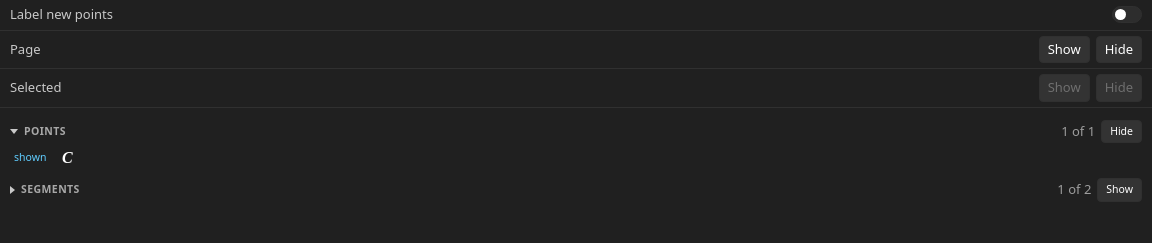
Scenario: the labels panel › folds a group away and back on its heading
Click the button "Segments 1 of 2": (50, 189) [6, 178, 1095, 202]
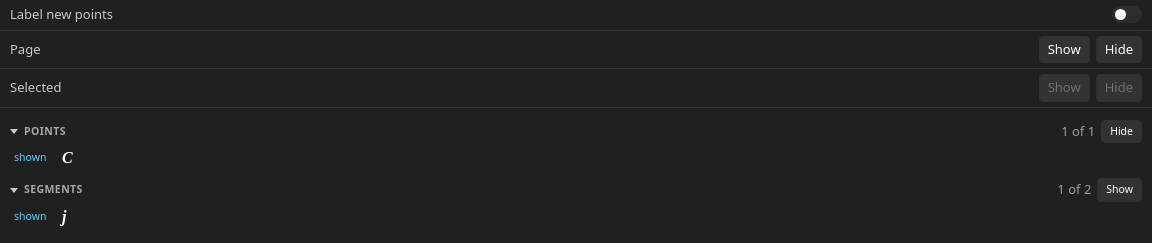
Expected: the button "j" is shown, [62, 208, 1142, 226]
Click the button "Segments 1 of 2": (53, 189) [6, 178, 1095, 202]
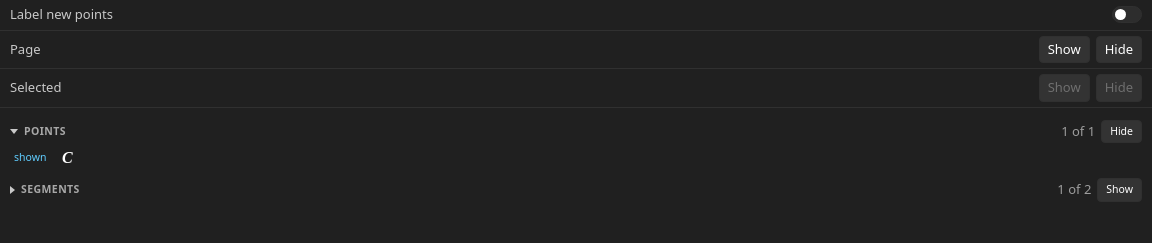
Expected: the button "j" is gone
